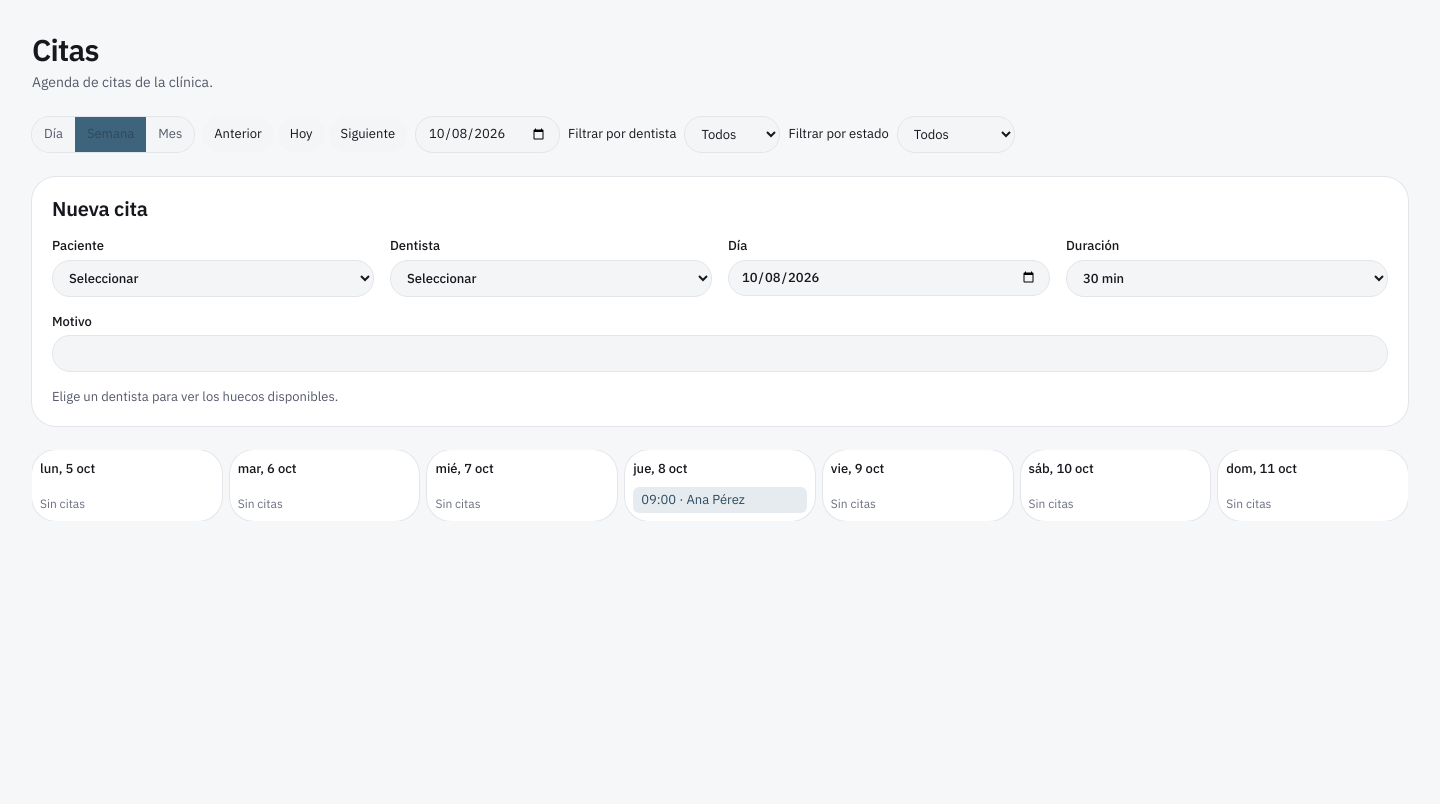
Citas — disponibilidad por columna › muestra carga y después ausencia de huecos solo en el dentista afectado
Click the button "Día" at point(53, 134), box top-left (32, 117), bottom-right (75, 152)
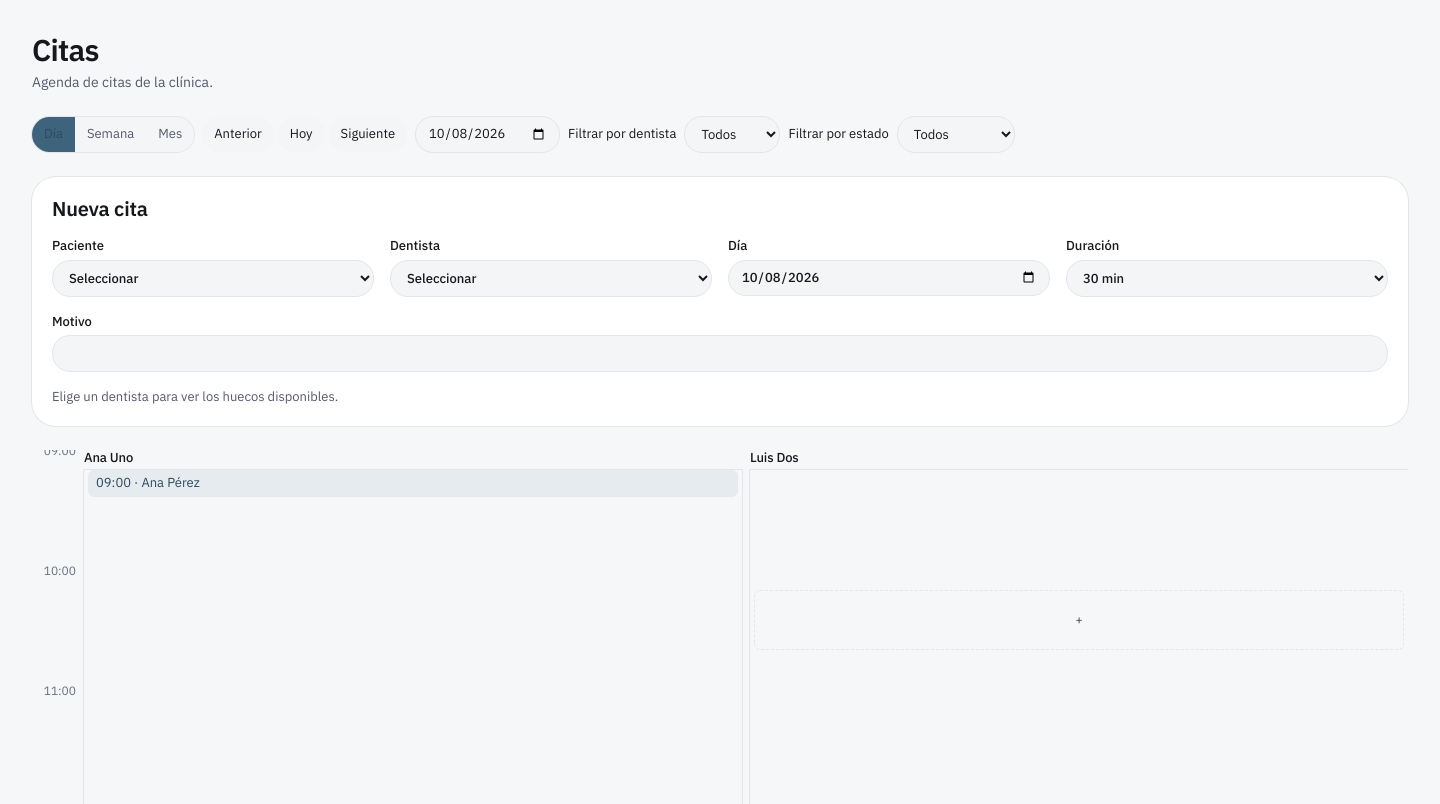
Expected: the button "Reservar " is not shown
Expected: the button with aria-label "Cita con Ana Pérez" is shown, top-left (88, 470), bottom-right (738, 496)
Click the button named "Reservar 10:00-10:30" at point(1079, 620), box top-left (754, 590), bottom-right (1404, 650)
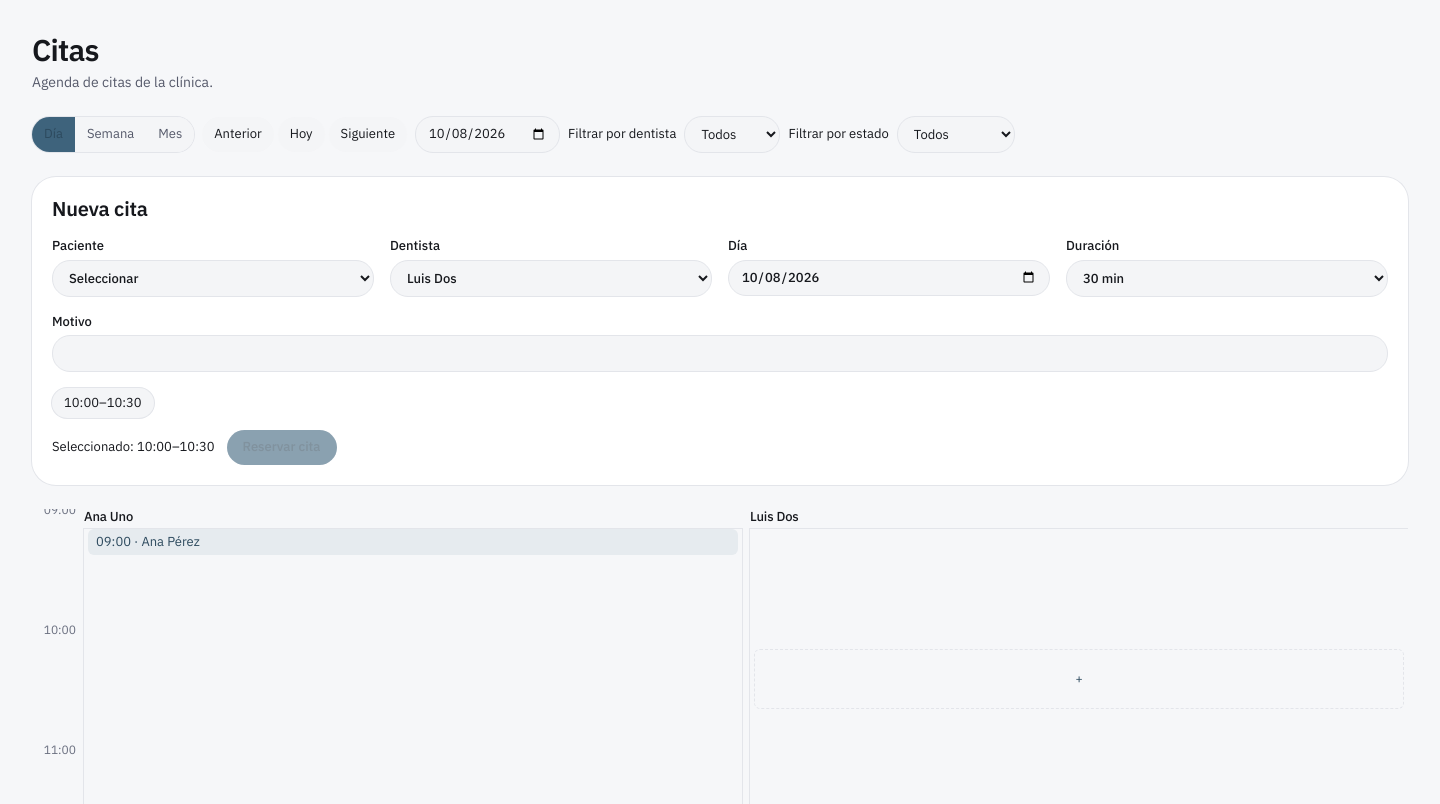
Expected: the button with aria-label "Cita con Ana Pérez" is shown, top-left (88, 528), bottom-right (738, 555)
Result: the dropdown labelled "Dentista" shows "Luis Dos" at top-left (390, 260), bottom-right (712, 297)
Result: the text "Seleccionado: 10:00–10:30" is shown at top-left (52, 438), bottom-right (215, 457)
